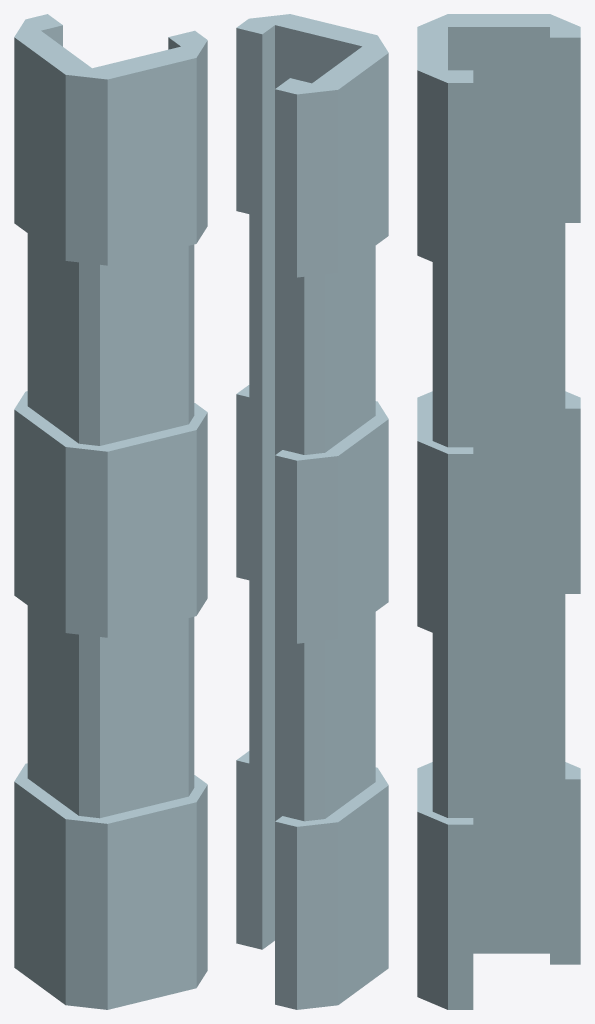
3 views of the same model, side by side, from view 1: azimuth 30°, elevation 25°; view 2: azimuth 150°, elevation 25°; view 3: azimuth 270°, elevation 25° (orthographic).
Parts seen in each view (by area): view 1: wallCornerDetail; view 2: wallCornerDetail; view 3: wallCornerDetail.
Boxes of the visible parts, x1,y1,x2,y2 form: wallCornerDetail: (14, 14, 207, 1009); wallCornerDetail: (236, 14, 388, 1009); wallCornerDetail: (417, 14, 580, 1009).
Bounding box in the file's own units: 0.16 × 1 × 0.16.
